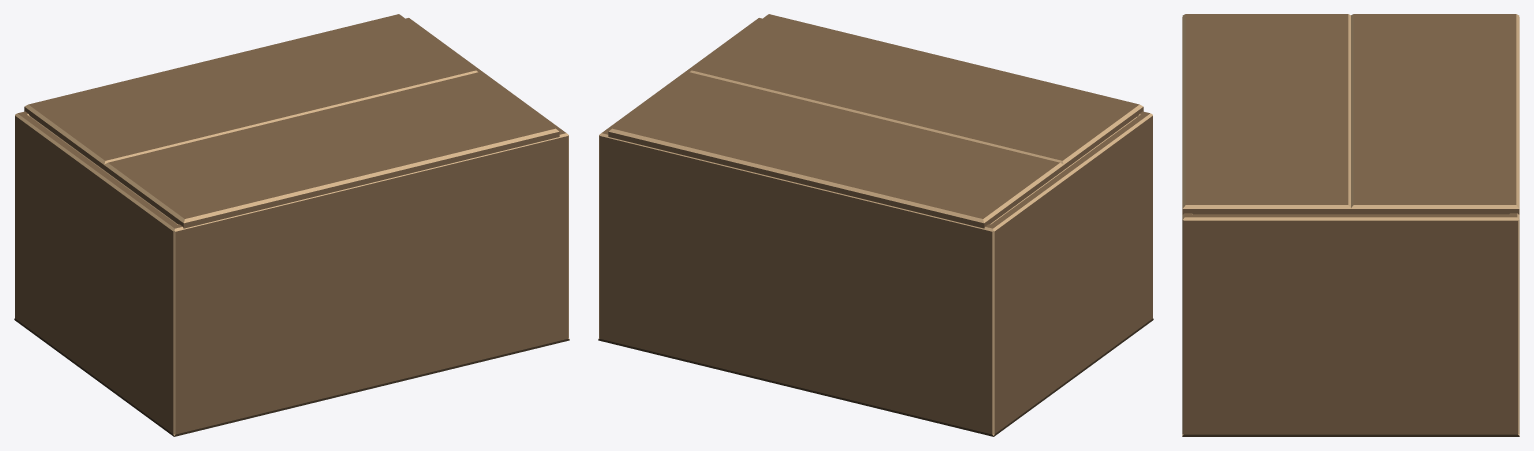
File: CardboardBox.fbx
3 renders of one model, left to right at view 1: azimuth 30°, elevation 25°; view 2: azimuth 150°, elevation 25°; view 3: azimuth 270°, elevation 25°, orthographic. The views are drawn at different scales.
Visible parts, largest first — view 1: Cardboard_Box, BoxFlapB, BoxFlapF; view 2: Cardboard_Box, BoxFlapF, BoxFlapB; view 3: Cardboard_Box, BoxFlapF, BoxFlapB.
Boxes of the visible parts, x1,y1,x2,y2 form: Cardboard_Box: (14,18,569,436); BoxFlapB: (104,72,559,228); BoxFlapF: (24,14,477,169); Cardboard_Box: (598,18,1153,436); BoxFlapF: (608,72,1063,228); BoxFlapB: (690,14,1143,169); Cardboard_Box: (1182,17,1519,436); BoxFlapF: (1350,14,1519,214); BoxFlapB: (1182,14,1351,214).
Bounding box in the file's own units: 100 × 51.61 × 70.
